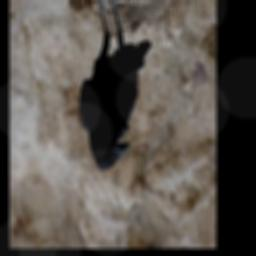Crow: (79, 0, 151, 172)
